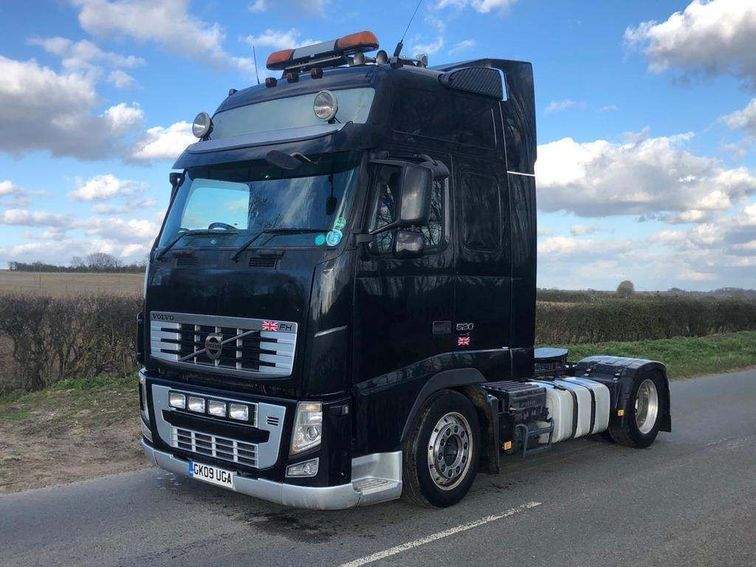Semi: (135, 30, 672, 510)
